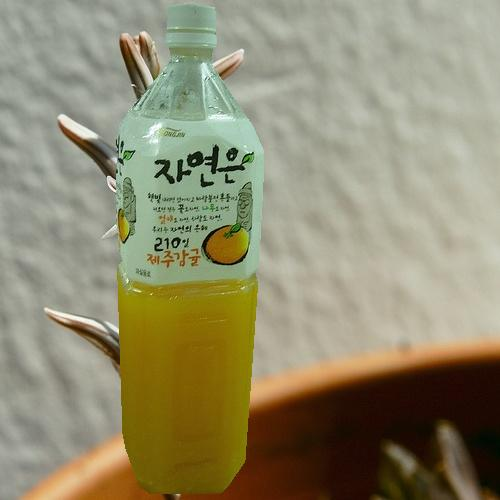tampered: (117, 4, 264, 494)
